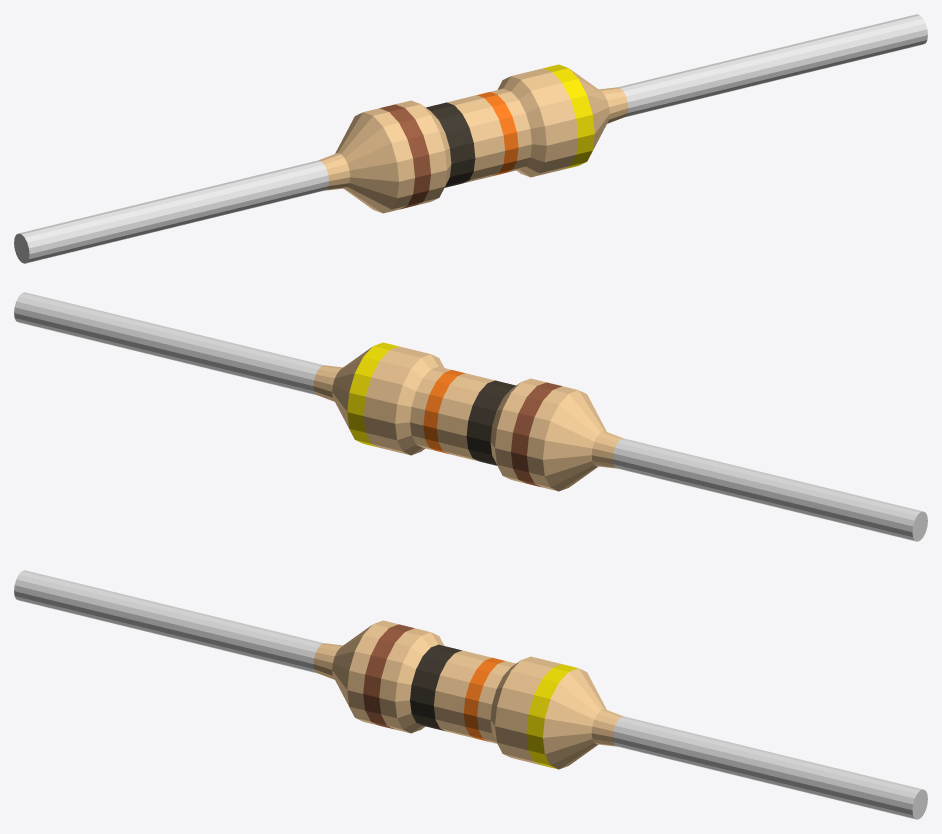
Rendered from resistor.glb.
The picture shows the model from 3 angles, top to bottom: view 1: azimuth 30°, elevation 25°; view 2: azimuth 150°, elevation 25°; view 3: azimuth 330°, elevation 25°; orthographic projection.
Parts seen in each view (by area): view 1: Resistor; view 2: Resistor; view 3: Resistor.
Boxes of the visible parts, x1,y1,x2,y2 form: Resistor: (14,14,927,263); Resistor: (14,292,927,541); Resistor: (14,570,927,819).
Bounding box in the file's own units: 6 × 0.6 × 0.6.
